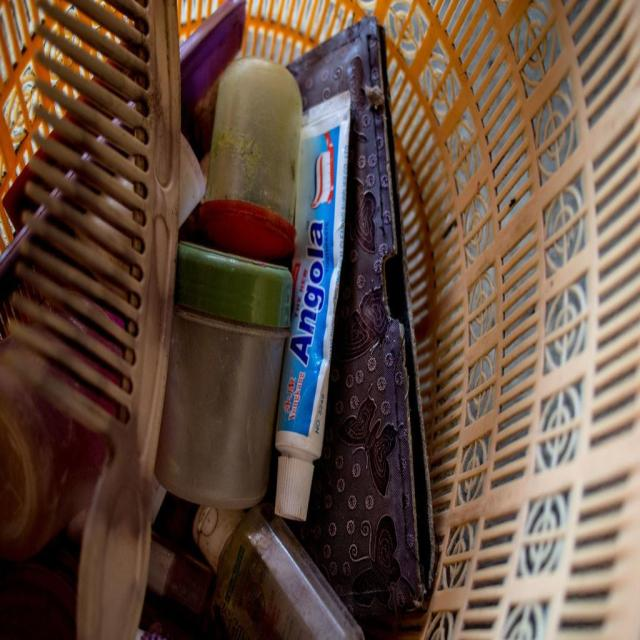Toothpaste: (274, 97, 360, 523)
